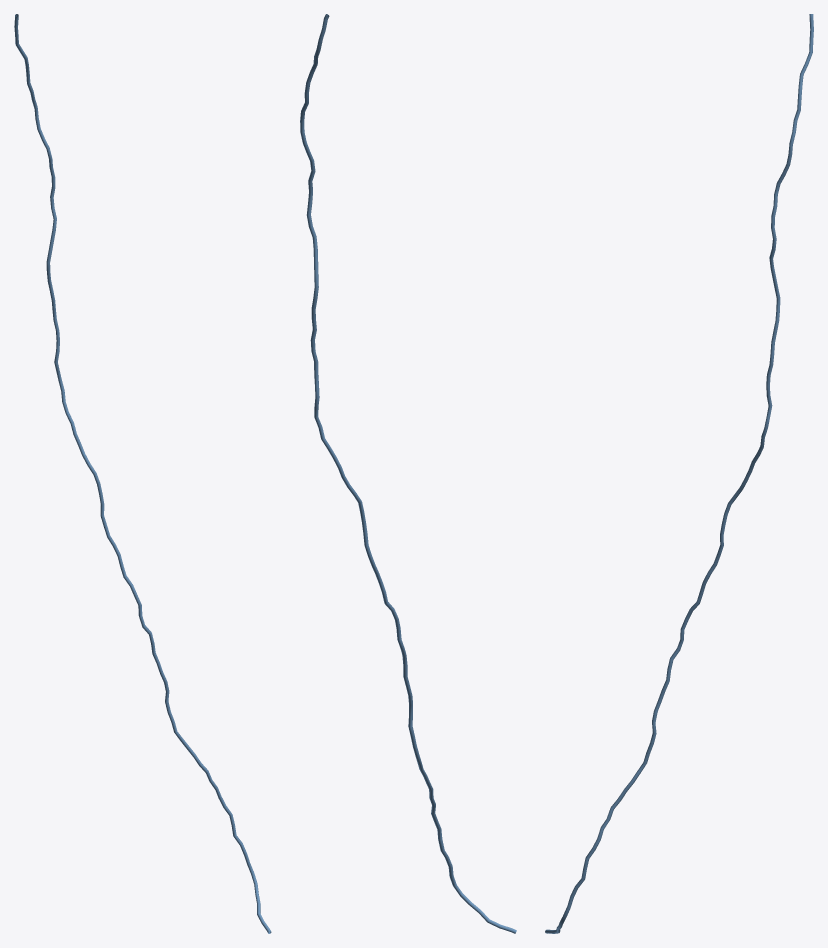
Rendered from sweep314.fbx.
3 views of the same model, side by side, from view 1: azimuth 90°, elevation 25°; view 2: azimuth 150°, elevation 25°; view 3: azimuth 270°, elevation 25° (orthographic). The views are drawn at different scales.
Parts seen in each view (by area): view 1: sweep314; view 2: sweep314; view 3: sweep314.
Part boxes in pixels (x1,y1,x2,y2): sweep314: (14,14,271,933); sweep314: (300,14,516,933); sweep314: (545,14,813,933).
Size of the model in its own units: 0.4754 by 5.27 by 1.37.
